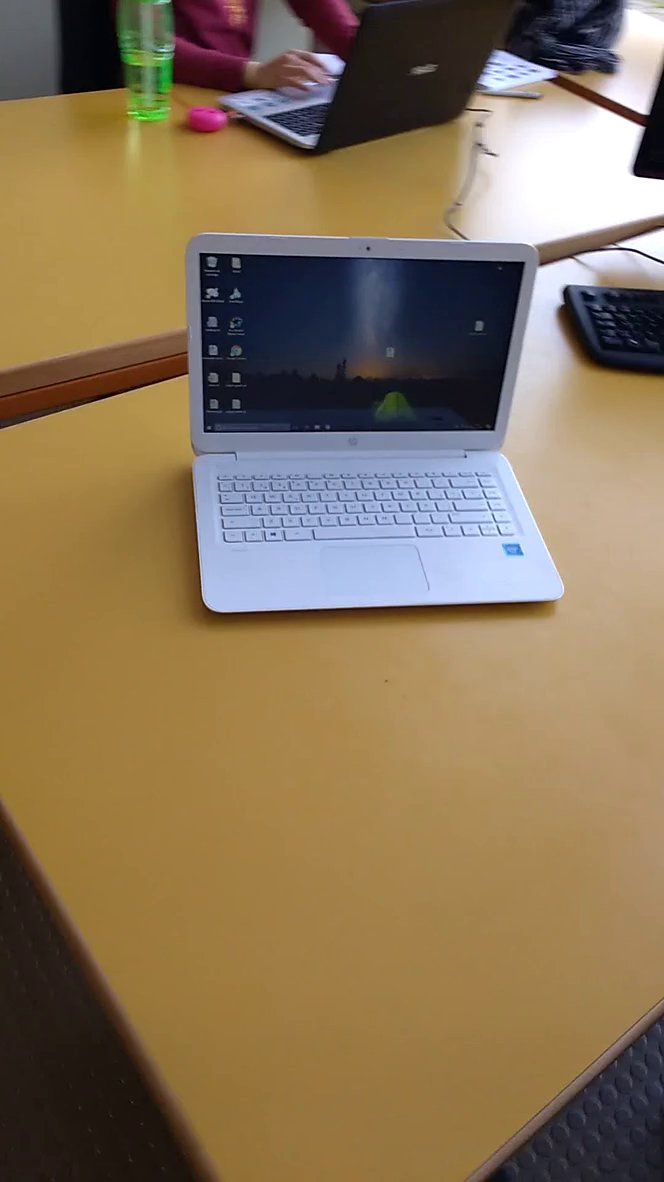laptop: (169, 224, 587, 647)
